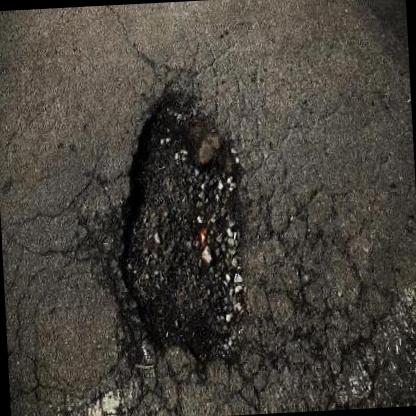pothole: (95, 80, 262, 369)
